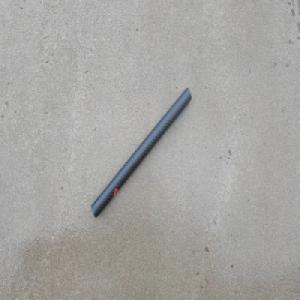LuggagePart: (90, 84, 192, 219)
